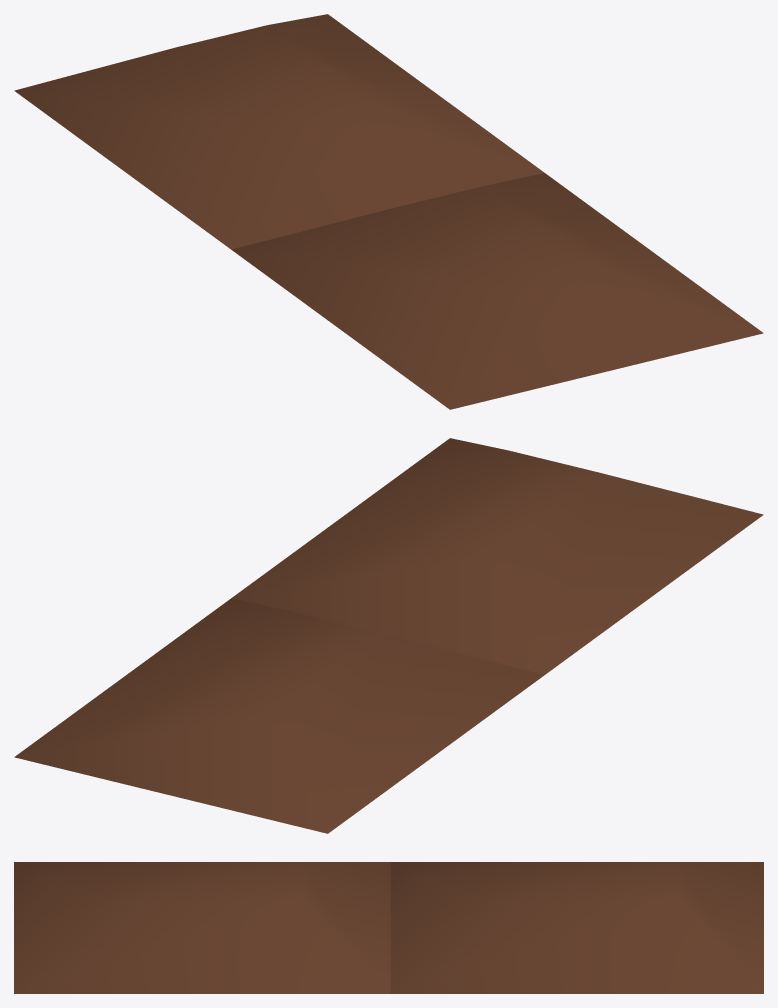
The model's file is Load_cont_GBJ_Full.glb.
The picture shows the model from 3 angles, top to bottom: view 1: azimuth 30°, elevation 25°; view 2: azimuth 150°, elevation 25°; view 3: azimuth 270°, elevation 25°; orthographic projection. The views are drawn at different scales.
Visible parts, largest first — view 1: Load_cont_GBJ_Full; view 2: Load_cont_GBJ_Full; view 3: Load_cont_GBJ_Full.
Boxes of the visible parts, box(x1,y1,x2,y2) form: Load_cont_GBJ_Full: box(14, 14, 763, 409); Load_cont_GBJ_Full: box(14, 438, 763, 833); Load_cont_GBJ_Full: box(14, 862, 763, 993).
Bounding box in the file's own units: 2.24 × 0.3609 × 5.38.
1 material, 1 textured.
